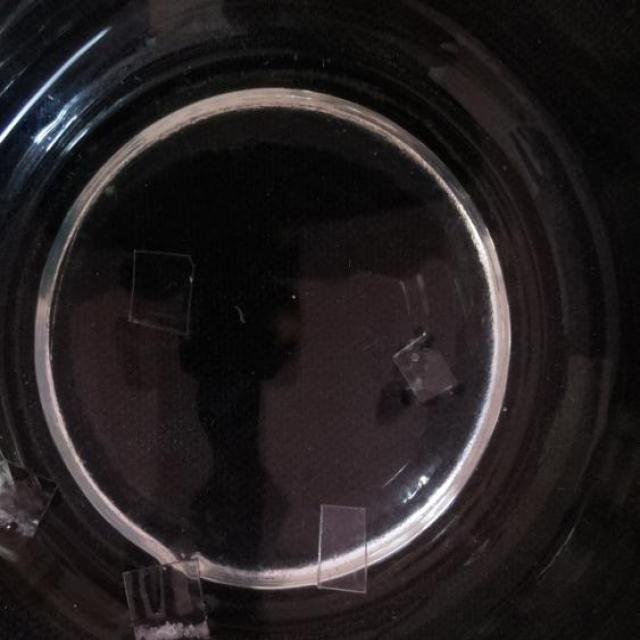fiber: (124, 561, 210, 640), (128, 245, 191, 328), (318, 500, 370, 596), (0, 452, 52, 542), (393, 333, 456, 404)
